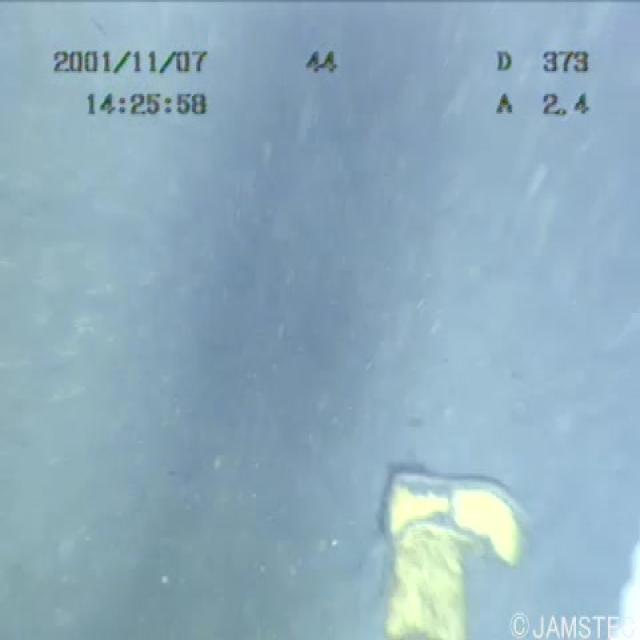plastic: (362, 438, 566, 638)
